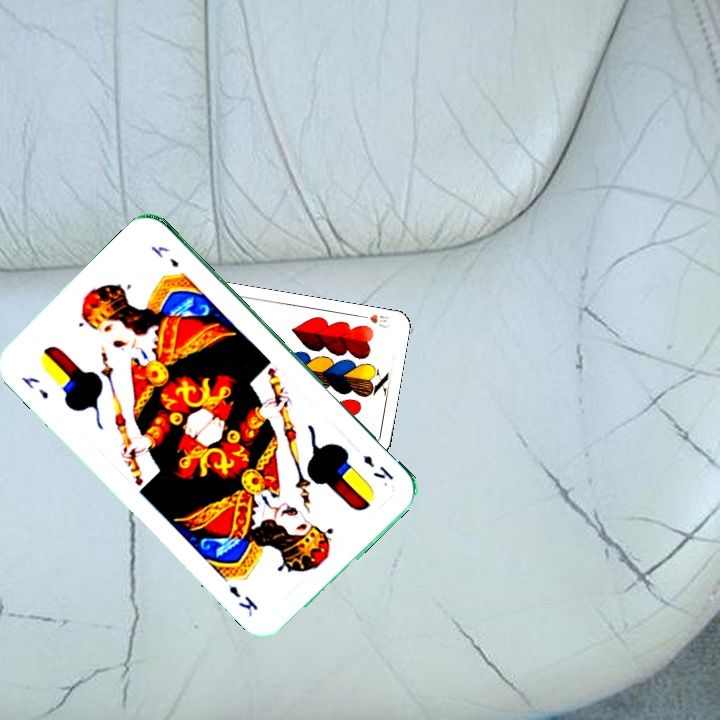EK: (359, 451, 396, 483), (18, 372, 51, 402)
H10: (354, 310, 392, 331)
